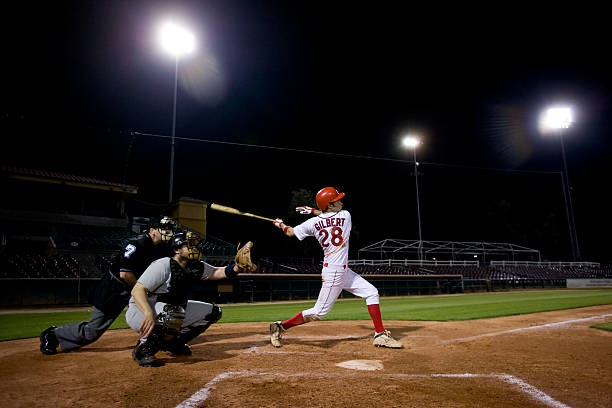bita: (205, 203, 280, 228)
